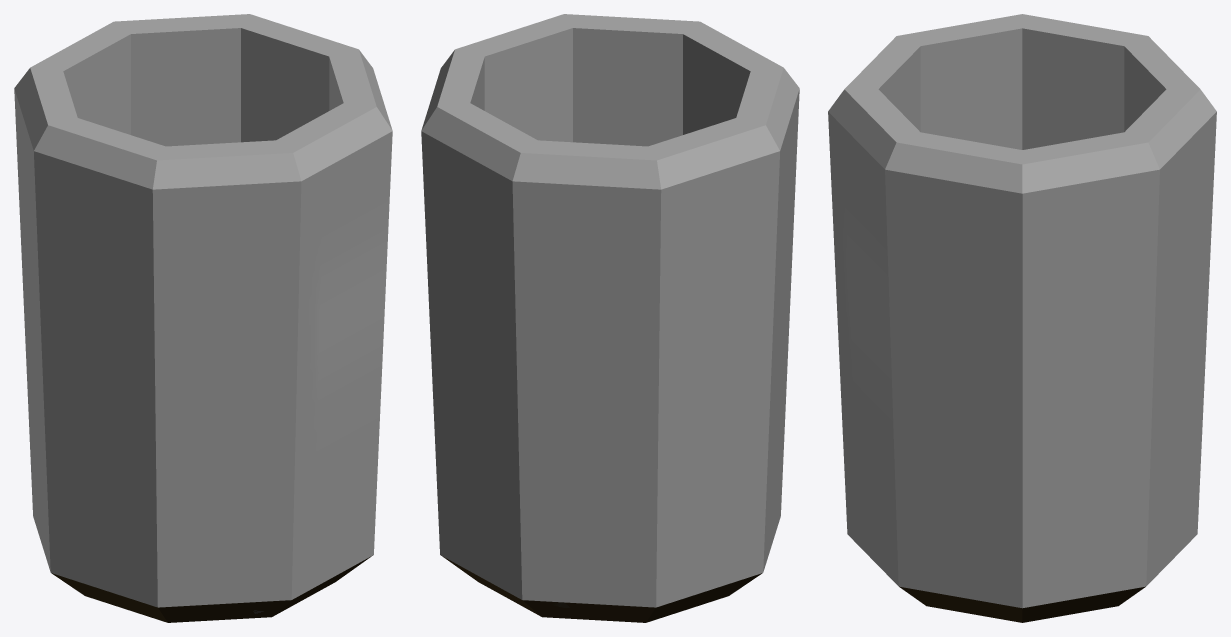
The model's file is TrashCan.fbx.
The picture shows the model from 3 angles, left to right: view 1: azimuth 30°, elevation 25°; view 2: azimuth 150°, elevation 25°; view 3: azimuth 270°, elevation 25°; orthographic projection.
Visible parts, largest first — view 1: pCylinder19; view 2: pCylinder19; view 3: pCylinder19.
Part boxes in pixels (x1,y1,x2,y2): pCylinder19: (14,14,392,622); pCylinder19: (421,14,799,622); pCylinder19: (828,14,1216,622).
Bounding box in the file's own units: 189 × 256 × 189.
1 material, 1 textured.
